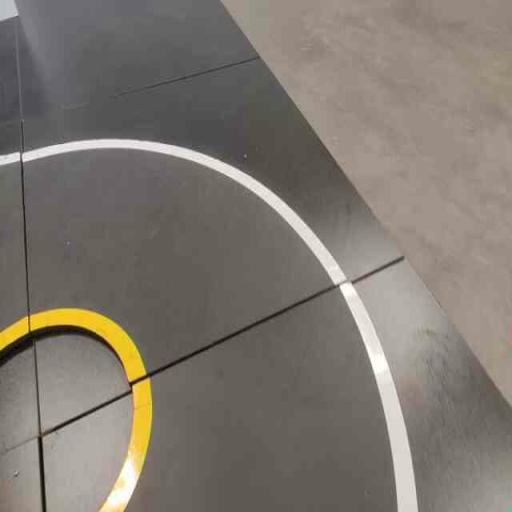left: (44, 267, 450, 511)
